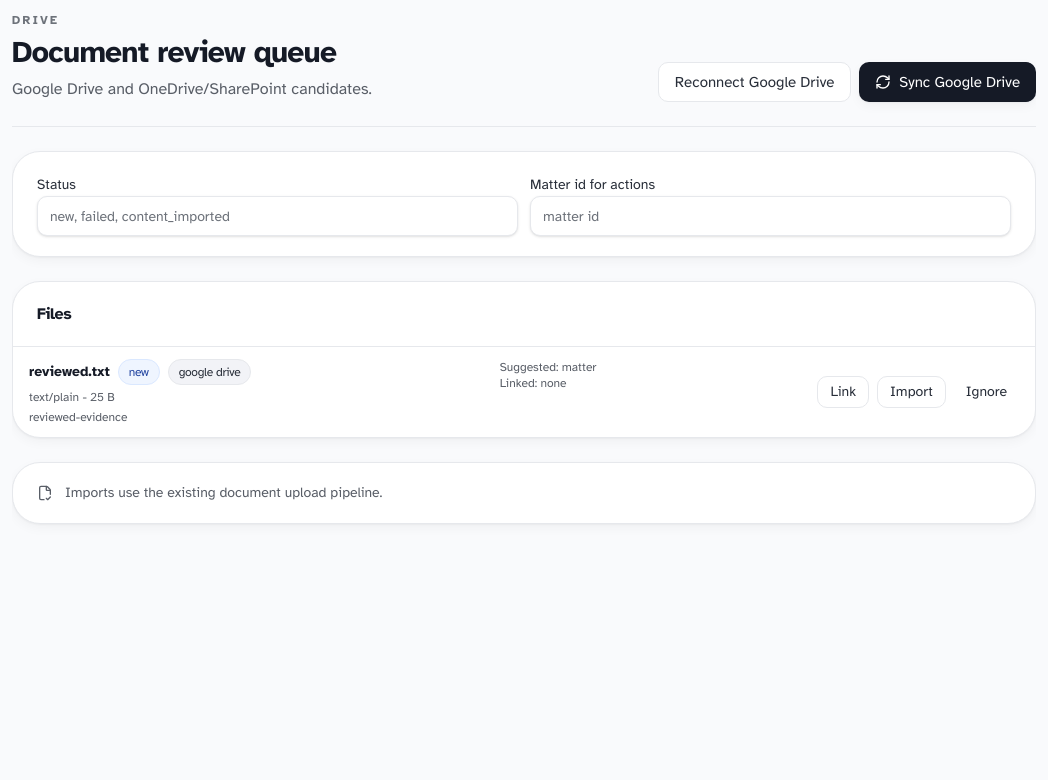
Test: DrivePage › refreshes connector state after Import rejects revoked Google consent
Expected: the button "Sync Google Drive" is enabled, [859, 62, 1036, 102]
What coordinates should you click on to do the following:
click the button "Import"
I would click on:
 (912, 392)
Its box is [877, 376, 946, 408].
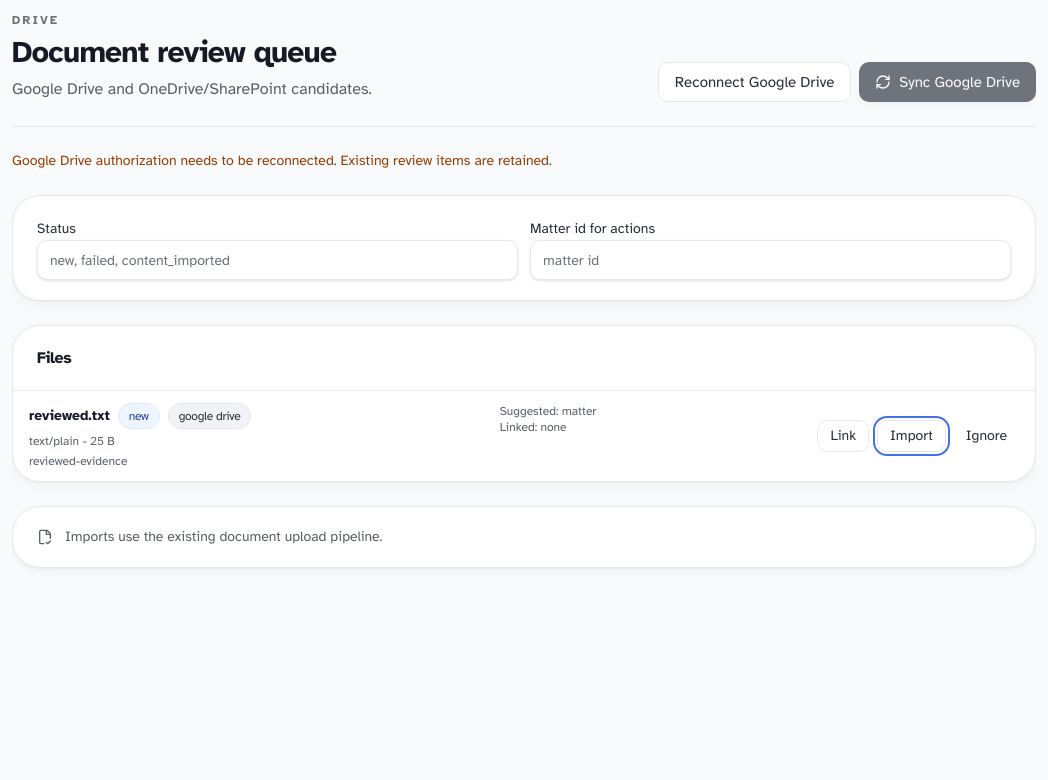
Expected: the button "Reconnect Google Drive" is enabled, [658, 62, 851, 102]
Result: the message shows "authorization needs to be reconnected" at [12, 152, 552, 169]
Result: the button "Sync Google Drive" is disabled at [859, 62, 1036, 102]
